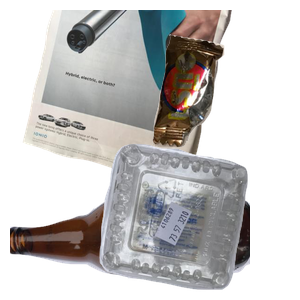glass: (10, 188, 250, 300)
paper: (20, 10, 244, 190)
plastic: (97, 141, 300, 300)
trash: (150, 32, 300, 172)
